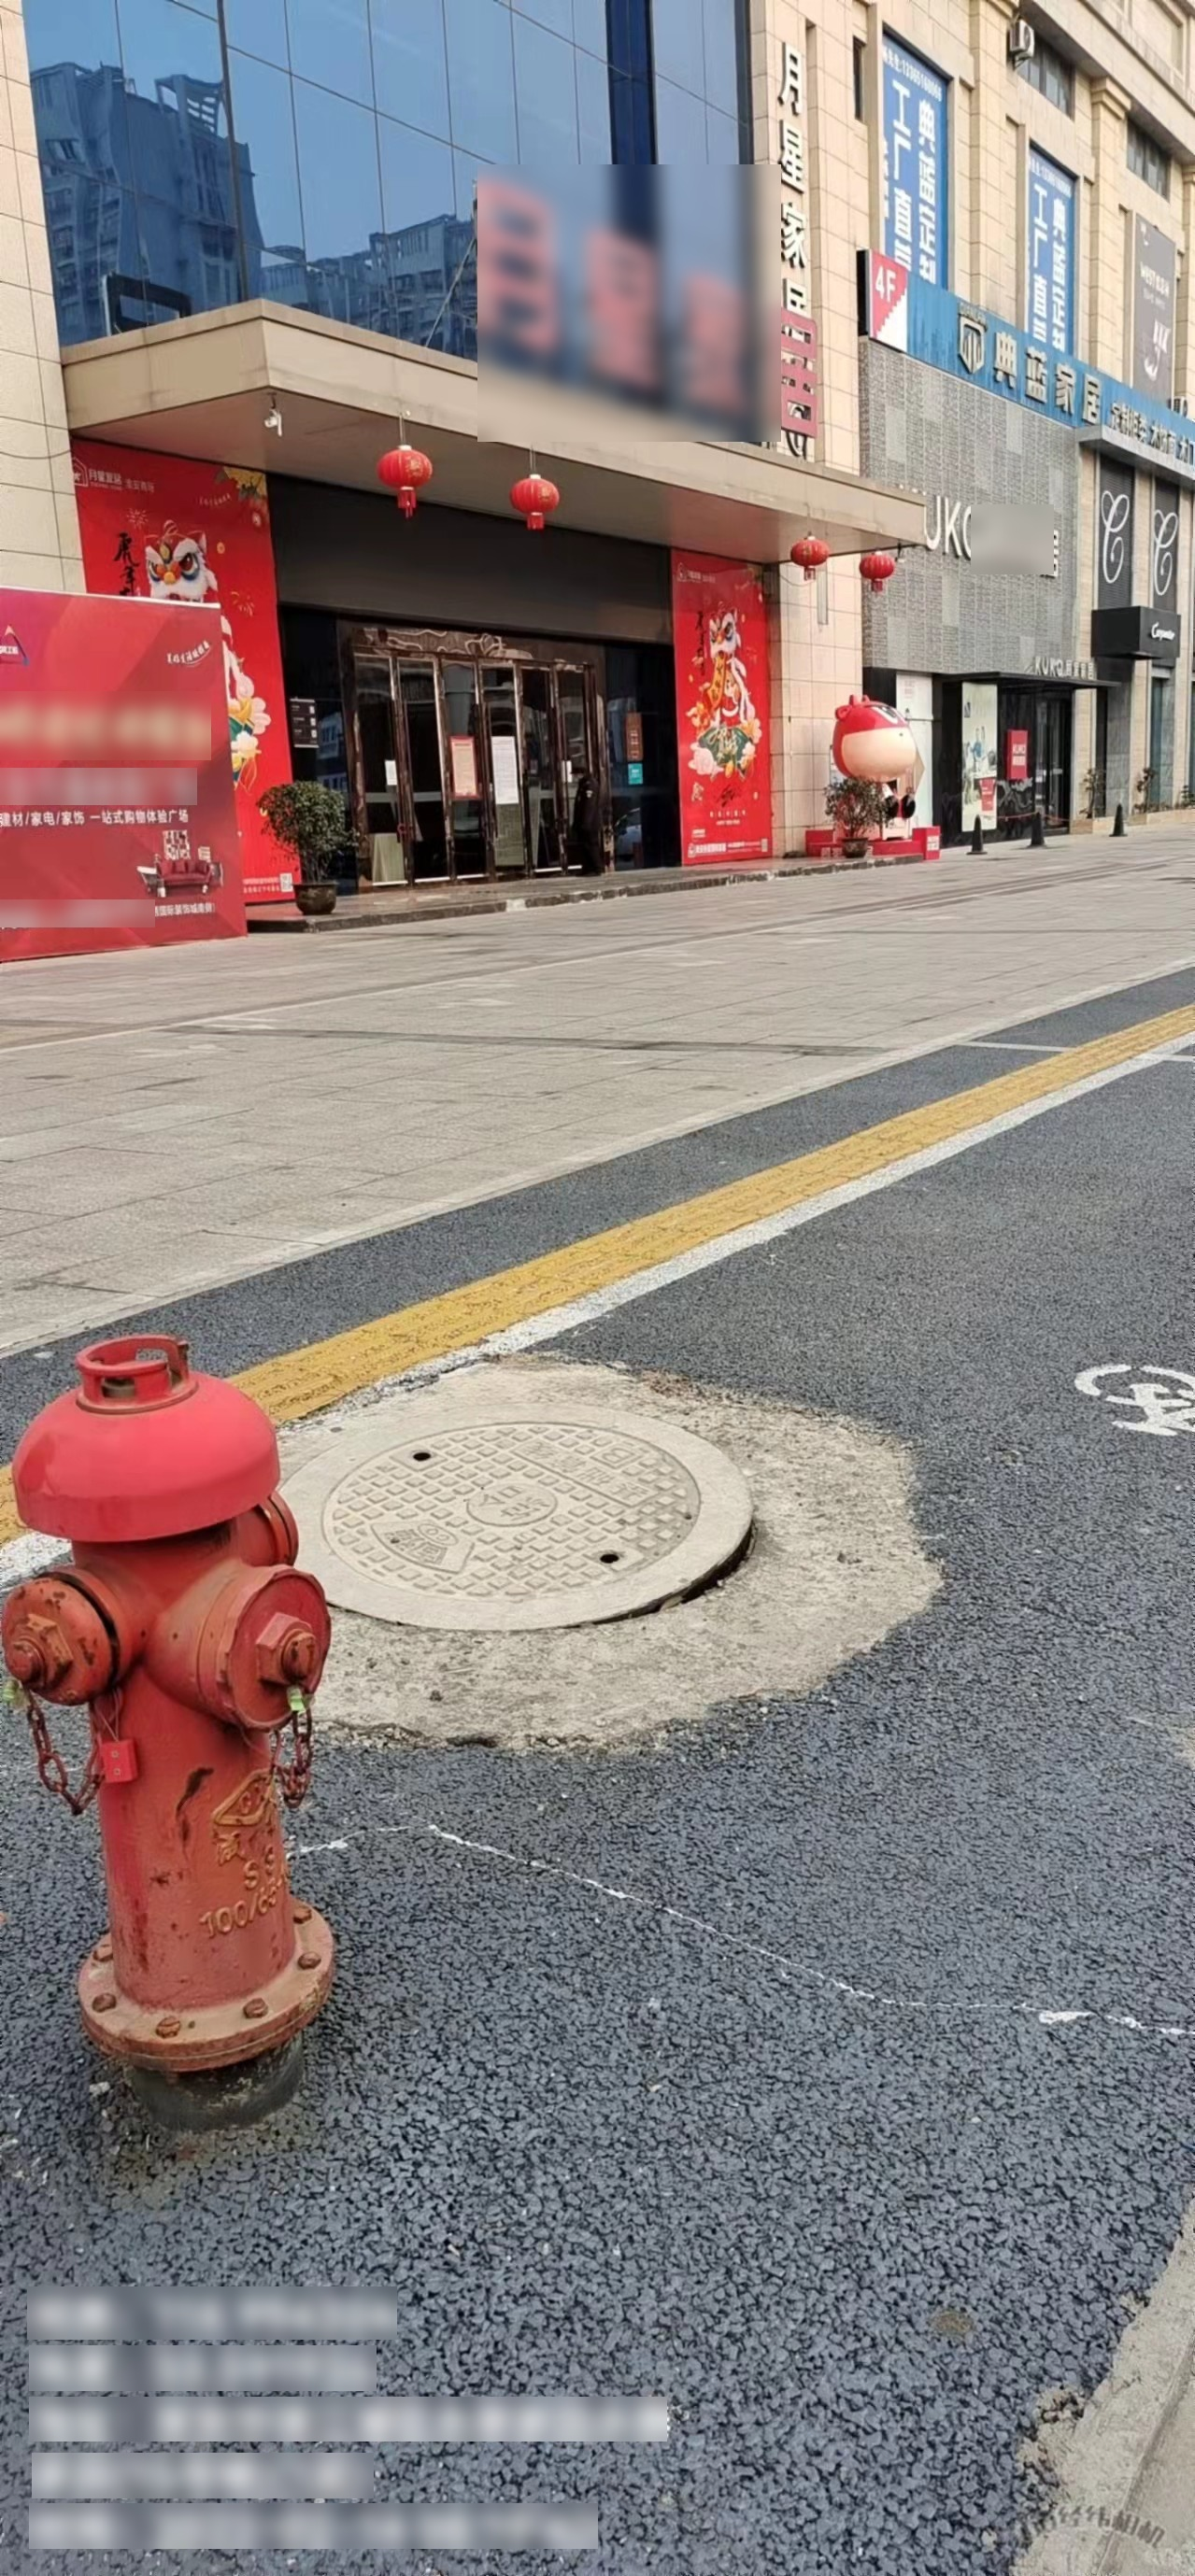well: (291, 1411, 758, 1621)
